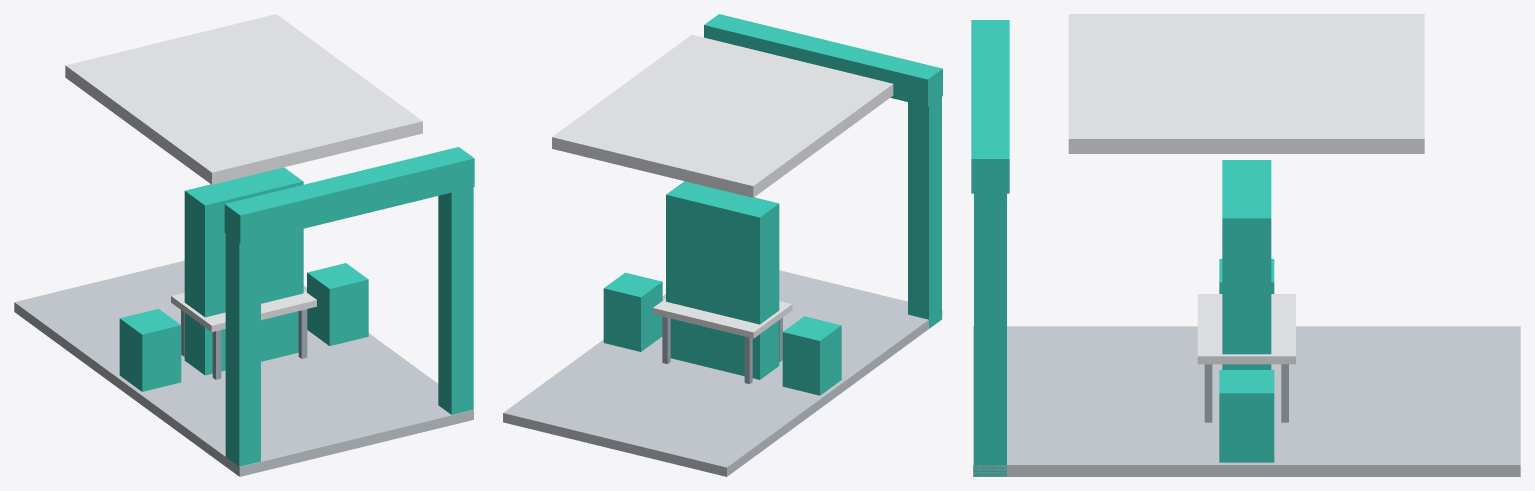
The picture shows the model from 3 angles, left to right: view 1: azimuth 30°, elevation 25°; view 2: azimuth 150°, elevation 25°; view 3: azimuth 270°, elevation 25°; orthographic projection. The views are drawn at different scales.
Parts seen in each view (by area): view 1: Exhibition Booth Concept; view 2: Exhibition Booth Concept; view 3: Exhibition Booth Concept.
Boxes of the visible parts, x1,y1,x2,y2 form: Exhibition Booth Concept: (14,14,474,476); Exhibition Booth Concept: (503,14,942,476); Exhibition Booth Concept: (971,14,1520,476).
Bounding box in the file's own units: 3 × 3.34 × 5.02.
